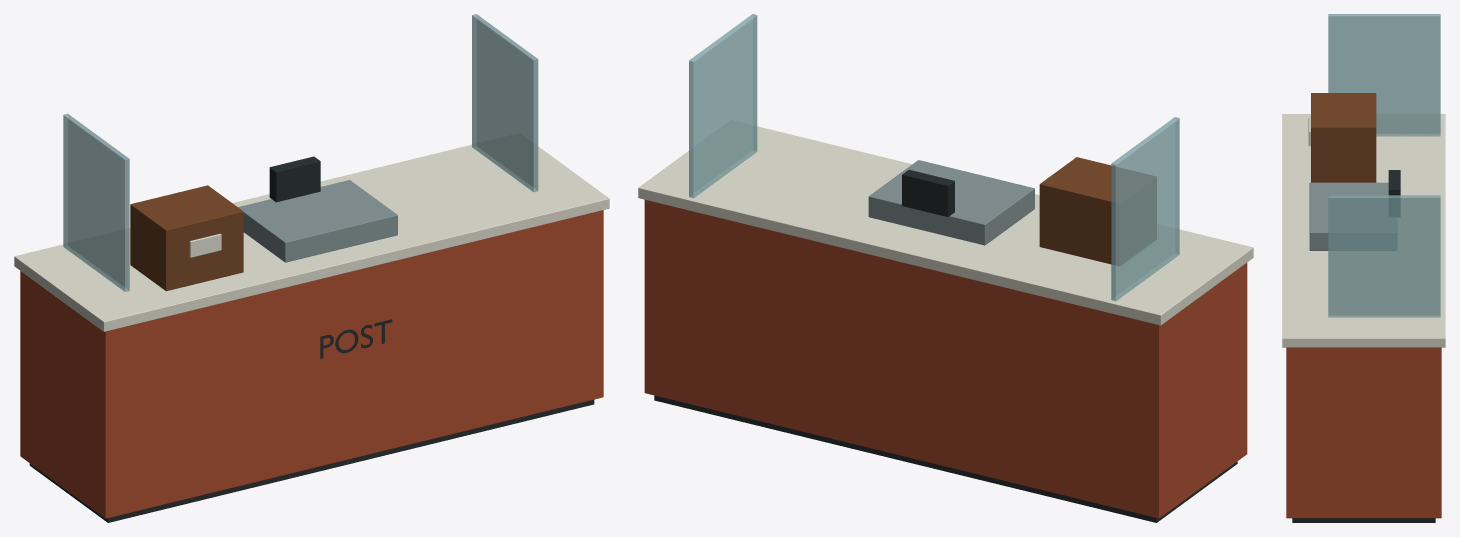
The model's file is post-office-counter.glb.
The picture shows the model from 3 angles, left to right: view 1: azimuth 30°, elevation 25°; view 2: azimuth 150°, elevation 25°; view 3: azimuth 270°, elevation 25°; orthographic projection. The views are drawn at different scales.
Parts seen in each view (by area): view 1: Counter_Body, Worktop, Parcel, Divider, Divider.001, Parcel_Scale, Counter_Base, Scale_Display, Editable_Label_POST; view 2: Counter_Body, Worktop, Parcel, Divider, Divider.001, Parcel_Scale, Counter_Base, Scale_Display; view 3: Worktop, Counter_Body, Divider.001, Divider, Parcel, Parcel_Scale, Counter_Base, Scale_Display.
Part boxes in pixels (x1,y1,x2,y2): Counter_Body: (20,210,603,518); Worktop: (14,133,609,331); Parcel: (130,185,243,291); Divider: (63,113,129,291); Divider.001: (472,14,538,192); Parcel_Scale: (238,180,397,262); Counter_Base: (29,399,594,522); Scale_Display: (269,156,320,202); Editable_Label_POST: (320,319,392,358); Counter_Body: (644,200,1247,518); Worktop: (638,120,1253,325); Parcel: (1039,157,1156,265); Divider: (1111,117,1179,301); Divider.001: (689,14,757,198); Parcel_Scale: (868,160,1034,245); Counter_Base: (654,395,1237,522); Scale_Display: (902,169,954,216); Worktop: (1282,114,1445,347); Counter_Body: (1286,347,1441,518); Divider.001: (1328,195,1440,317); Divider: (1328,14,1440,136); Parcel: (1311,93,1376,182); Parcel_Scale: (1309,182,1396,250); Counter_Base: (1292,518,1435,522); Scale_Display: (1388,170,1400,216).
Bounding box in the file's own units: 2.6 × 1.67 × 0.8.
